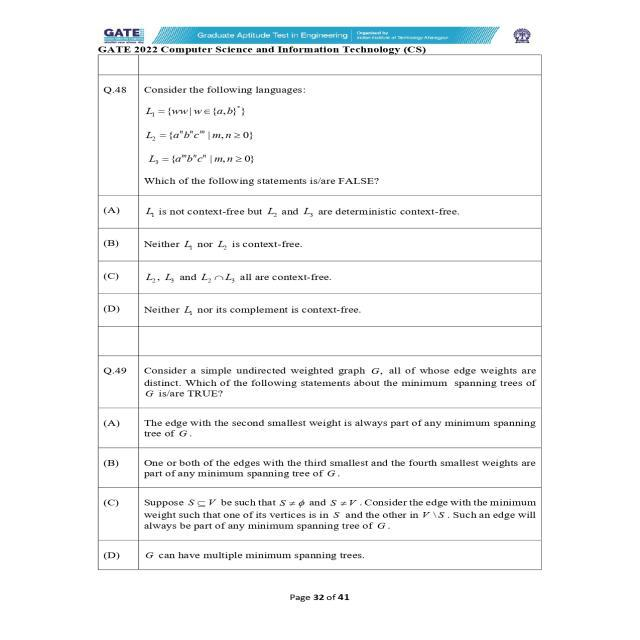Answer_Block: (98, 408, 540, 568), (99, 195, 542, 327)
Question_Answer_Block: (98, 75, 542, 326), (98, 356, 542, 569)
Question_Block: (98, 74, 541, 194), (98, 356, 540, 408)
Question_Paper_Area: (98, 74, 540, 572)
